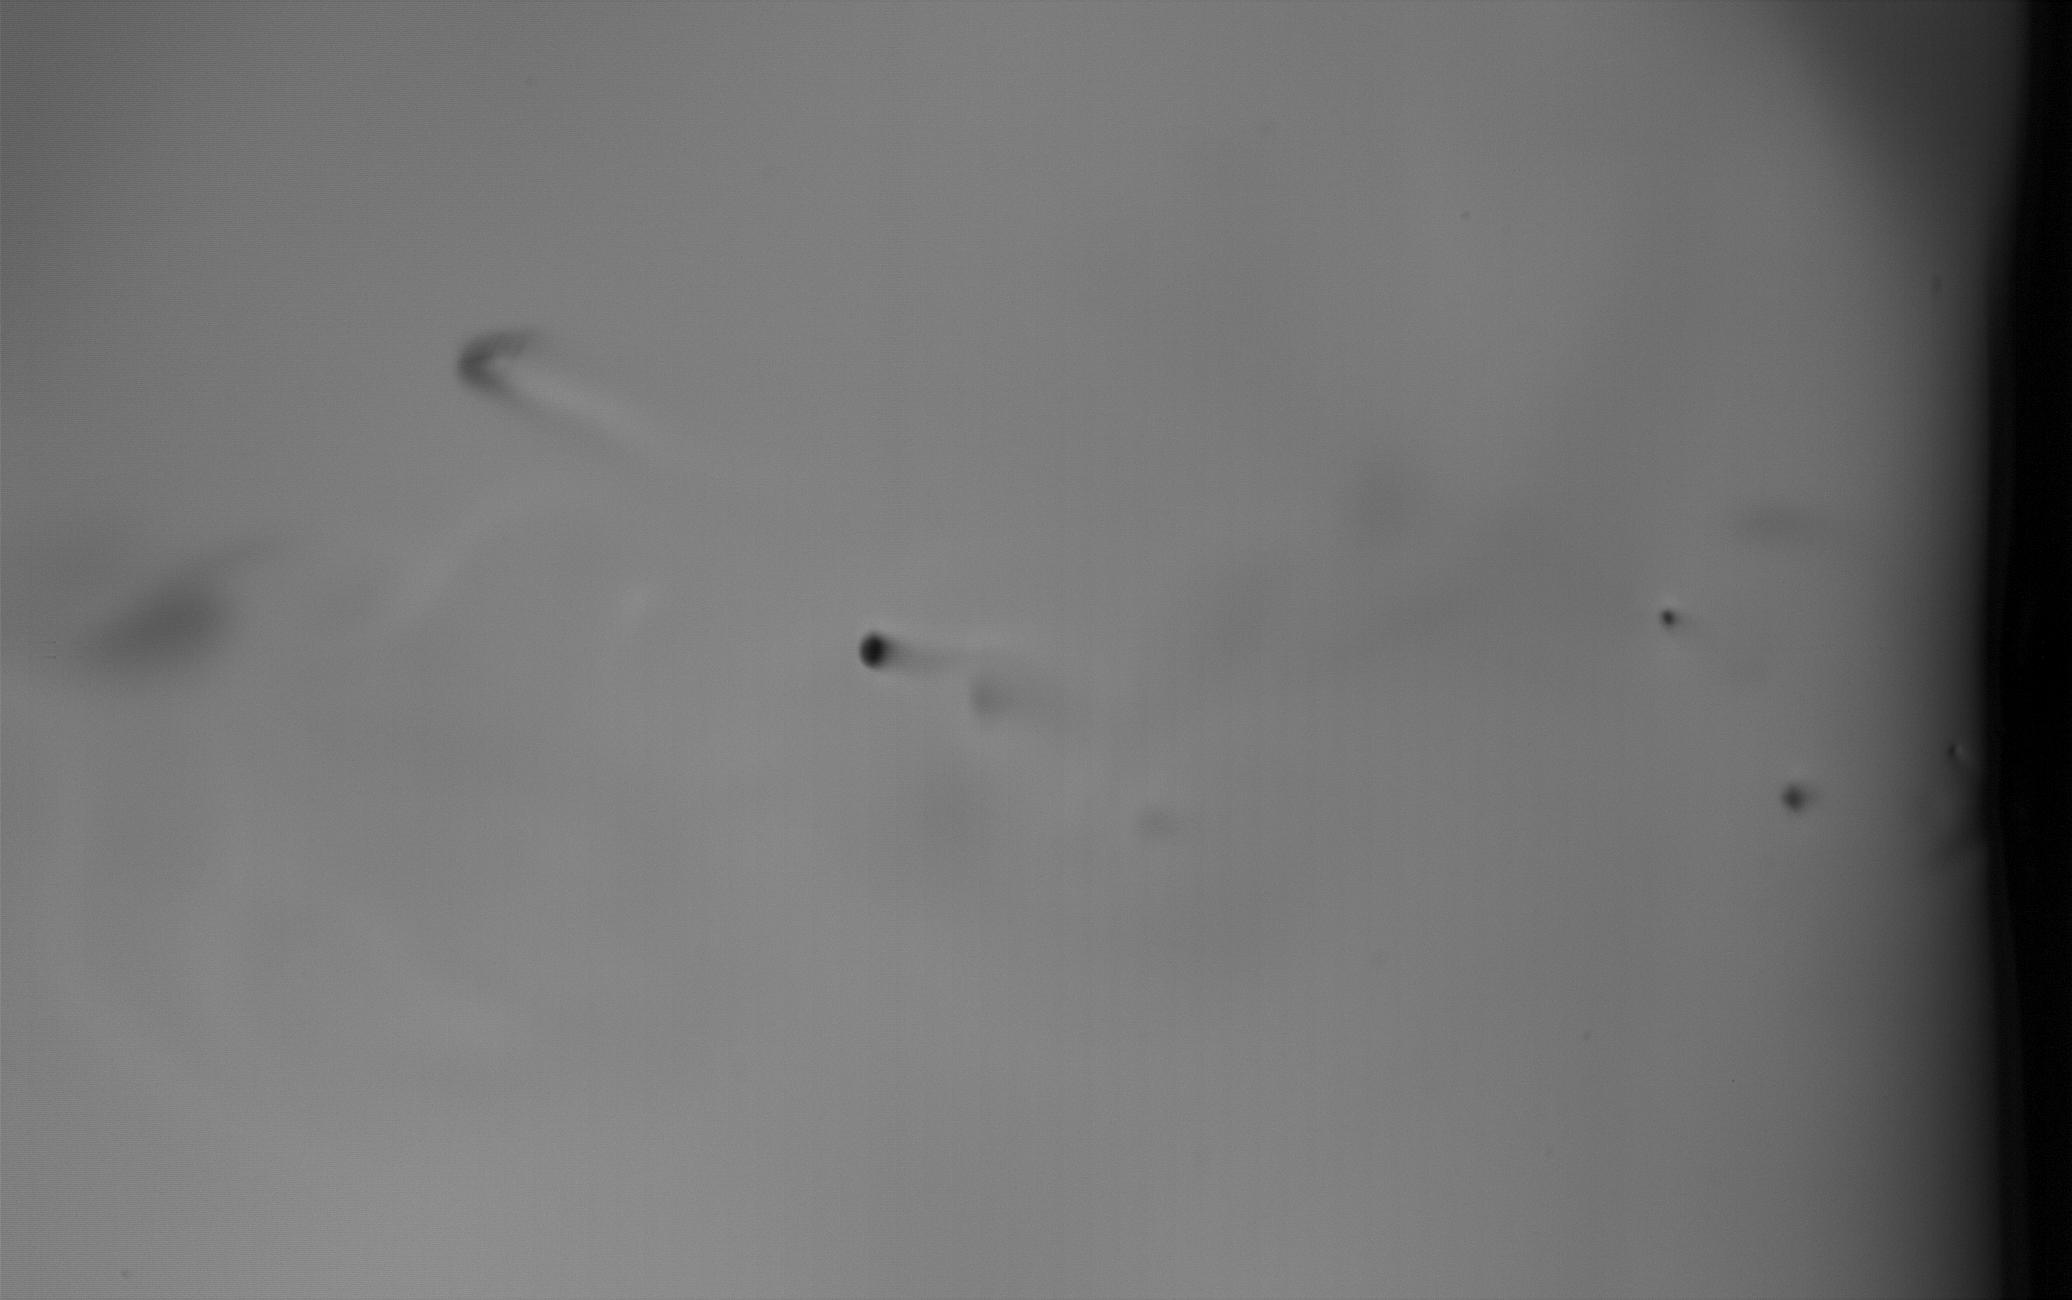ClassicalEvaporation: (855, 634, 892, 674), (1783, 783, 1809, 810), (1656, 605, 1678, 628)
DiffusiveMixing: (457, 318, 534, 406)
